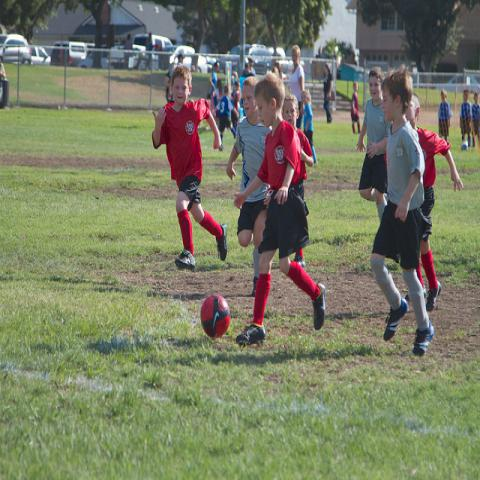car: (219, 42, 272, 76), (169, 44, 210, 73), (51, 43, 87, 69), (1, 34, 32, 64), (130, 33, 176, 51), (442, 73, 480, 93), (110, 42, 132, 68), (29, 44, 51, 66), (276, 45, 292, 72), (197, 56, 218, 74), (100, 46, 114, 70), (86, 44, 96, 64)
